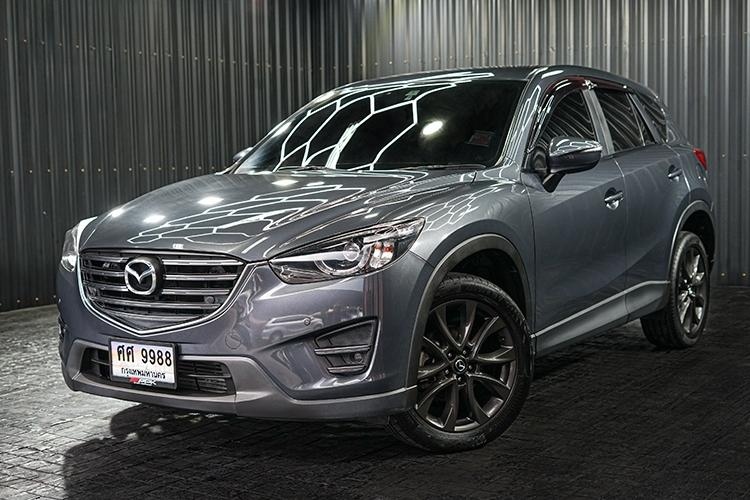license-plate: (107, 336, 181, 391)
